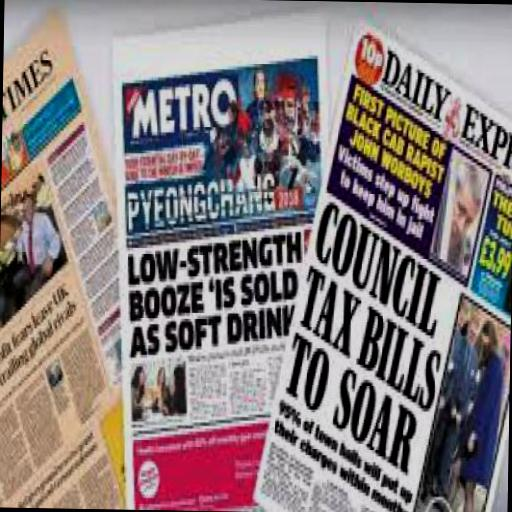paper: (249, 18, 512, 512), (104, 16, 328, 510), (0, 7, 131, 506)
